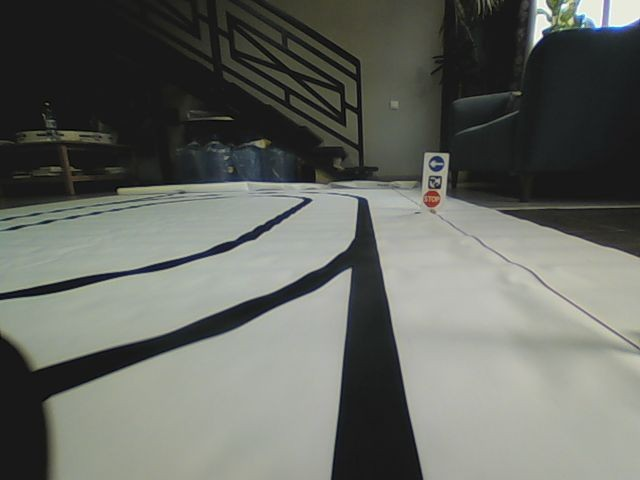Stop: (423, 189, 440, 208)
